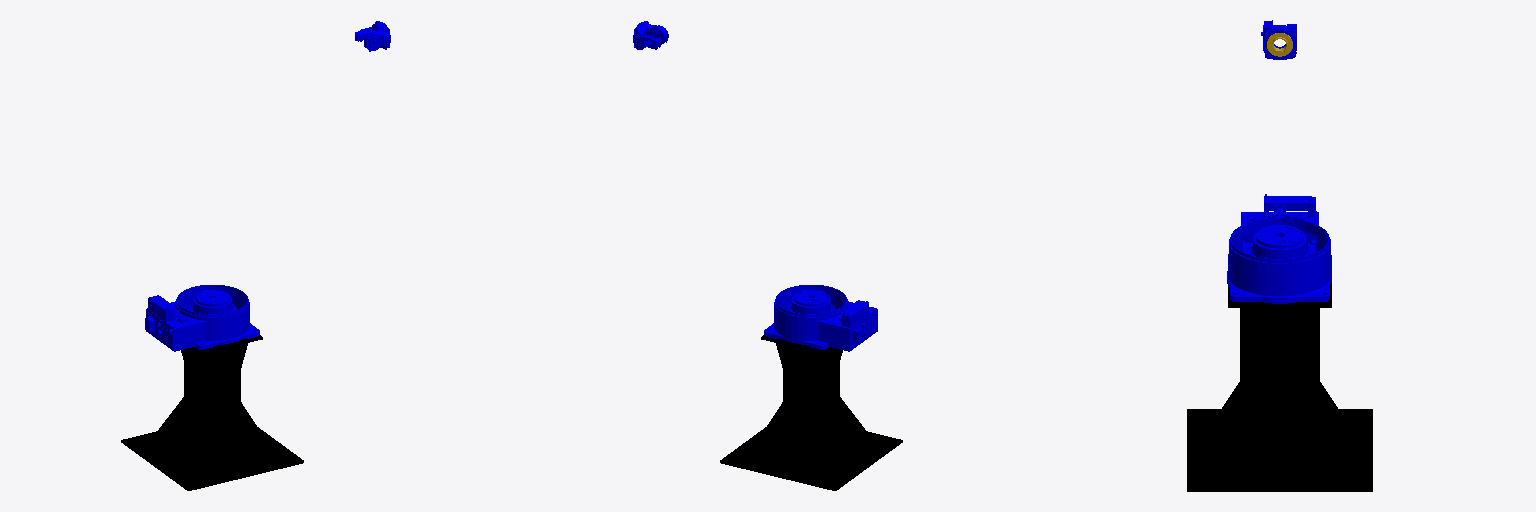
URDF robot description (yaskawa):
<?xml version="1.0" encoding="utf-8"?>
<!-- This URDF was automatically created by SolidWorks to URDF Exporter! Originally created by [author] ([email redacted]) 
     Commit Version: 1.5.1-0-g916b5db  Build Version: 1.5.7152.31018
     For more information, please see http://wiki.ros.org/sw_urdf_exporter -->
<robot name="yaskawa" xmlns:xacro="http://www.ros.org/wiki/xacro">

  <material name="black">
    <color rgba="0.0 0.0 0.0 1.0"/>
  </material>
  <material name="blue">
    <color rgba="0 0 1.0 1.0"/>
  </material>

  <link name="arm_base"/>

  <link name="gp25_fixed_base_link">
    <visual>
      <material name="black"/>
      <geometry>
        <mesh filename = "../mesh/gp25_base_700.obj" />
        <!-- alternatively, it could be a box or cylinder -->
        <!-- <cylinder length="0.15" radius="0.025"/> -->
      </geometry>
      <origin rpy="0 0 0" xyz="0 0 0"/>
    </visual>
  </link>

  <link name="f_link">
    <inertial>
      <origin
        xyz="-0.031915 0.0021754 0.091588"
        rpy="0 0 0" />
      <mass
        value="9.3324" />
      <inertia
        ixx="0.1098"
        ixy="0.0028375"
        ixz="0.0065426"
        iyy="0.14811"
        iyz="-0.0011608"
        izz="0.22448" />
    </inertial>
    <visual>
      <origin
        xyz="0 0 0"
        rpy="0 0 0" />
      <geometry>
        <mesh
          filename="../meshes/base_link.obj" />
      </geometry>
      <material name="blue"/>
    </visual>
  </link>
  
  <link name="s_Link">
    <inertial>
      <origin
        xyz="-0.038076 0.20667 0.061766"
        rpy="0 0 0" />
      <mass
        value="15.959" />
      <inertia
        ixx="0.25529"
        ixy="0.017445"
        ixz="0.0061699"
        iyy="0.24074"
        iyz="-0.052601"
        izz="0.21792" />
    </inertial>
    <visual>
      <origin
        xyz="0 0 0"
        rpy="0 0 0" />
      <geometry>
        <mesh
          filename="../meshes/s_Link.obj" />
      </geometry>
      <material name="blue"/>
    </visual>
  </link>





  <link name="l_Link">
    <inertial>
      <origin
        xyz="-0.00062167 0.39609 0.0888"
        rpy="0 0 0" />
      <mass
        value="5.7076" />
      <inertia
        ixx="0.34116"
        ixy="0.0021389"
        ixz="-0.00023475"
        iyy="0.019361"
        iyz="0.011447"
        izz="0.35339" />
    </inertial>
    <visual>
      <origin
        xyz="0 0 0"
        rpy="0 0 0" />
      <geometry>
        <mesh
          filename="../meshes/l_Link.obj" />
      </geometry>
      <material name="blue"/>
    </visual>
  </link>
 
  <link name="u_Link">
    <inertial>
      <origin
        xyz="-0.09664 -0.036888 0.093881"
        rpy="0 0 0" />
      <mass
        value="7.4543" />
      <inertia
        ixx="0.053003"
        ixy="0.00038685"
        ixz="0.028037"
        iyy="0.087936"
        iyz="-0.0013279"
        izz="0.058106" />
    </inertial>
    <visual>
      <origin
        xyz="0 0 0"
        rpy="0 0 0" />
      <geometry>
        <mesh
          filename="../meshes/u_Link.obj" />
      </geometry>
      <material name="blue"/>
    </visual>
  </link>

 
  <link name="r_Link">
    <inertial>
      <origin
        xyz="0.29012 -0.00040394 0.025862"
        rpy="0 0 0" />
      <mass  value="4.0138" />
      <inertia
        ixx="0.013092"
        ixy="-0.00031733"
        ixz="0.002754"
        iyy="0.078287"
        iyz="-0.00036811"
        izz="0.076871" />
    </inertial>
    <visual>
      <origin
        xyz="0 0 0"
        rpy="0 0 0" />
      <geometry>
        <mesh filename="../meshes/r_Link.obj" />
      </geometry>
      <material name="blue"/>
    </visual>
  </link>


  <link
    name="b_Link">
    <inertial>
      <origin
        xyz="0.0238 0.018199 0.00056212"
        rpy="0 0 0" />
      <mass
        value="2.4338" />
      <inertia
        ixx="0.0042554"
        ixy="-1.3463E-05"
        ixz="4.7464E-07"
        iyy="0.0041237"
        iyz="5.7202E-05"
        izz="0.0042659" />
    </inertial>
    <visual>
      <origin
        xyz="0 0 0"
        rpy="0 0 0" />
      <geometry>
        <mesh
          filename="../meshes/b_Link.obj" />
      </geometry>
      <material name="blue"/>
    </visual>
  </link>
 
  <link
    name="t_Link">
    <inertial>
      <origin
        xyz="0.012736 -3.8333E-05 -1.8968E-09"
        rpy="0 0 0" />
      <mass
        value="0.61827" />
      <inertia
        ixx="0.0010925"
        ixy="1.2818E-07"
        ixz="3.4704E-09"
        iyy="0.00056974"
        iyz="-6.0117E-06"
        izz="0.00056044" />
    </inertial>
    <visual>
      <origin
        xyz="0 0 0"
        rpy="0 0 0" />
      <geometry>
        <mesh
          filename="../meshes/t_Link.obj" />
      </geometry>
      <material
        name="">
        <color
          rgba="0.83137 0.67059 0.12941 1" />
      </material>
    </visual>
  </link>


  <joint name="mh25_fixed_base_link_joint" type="fixed">
    <origin xyz="0 0 0" rpy="0 0 0"/>
    <parent link="arm_base"/>
    <child link="gp25_fixed_base_link"/>
  </joint>
  <joint name="f_joint" type="fixed">
    <origin xyz="0.0 0.0 0.71" rpy="-1.5708 0 0"/> <!-- FIX THIS: the height of the base is wrong-->
    <parent link="gp25_fixed_base_link"/>
    <child link="f_link"/>
  </joint>

  <joint name="s" type="revolute">
    <origin
      xyz="0 -0.15075 0"
      rpy="3.1416 -1.5708 0" />
    <parent
      link="f_link" />
    <child
      link="s_Link" />
    <axis
      xyz="0 1 0" />
  </joint>
  
  <joint name="l" type="revolute">
    <origin
      xyz="-0.062998 0.35425 0.15"
      rpy="0 -1.5708 0" />
    <parent
      link="s_Link" />
    <child
      link="l_Link" />
    <axis
      xyz="0 0 1" />
  </joint>

 <joint name="u" type="revolute">
    <origin
      xyz="0 0.76 0"
      rpy="1.5708 0 -3.1416" />
    <parent
      link="l_Link" />
    <child
      link="u_Link" />
    <axis
      xyz="0 1 0" />
  </joint>

  <joint name="r"
    type="revolute">
    <origin
      xyz="-0.22499 -0.062998 0.2"
      rpy="0 0 3.1416" />
    <parent
      link="u_Link" />
    <child
      link="r_Link" />
    <axis
      xyz="1 0 0" />
  </joint>

 <joint name="b"
    type="revolute">
    <origin
      xyz="0.57001 0 0"
      rpy="3.1416 0 0" />
    <parent
      link="r_Link" />
    <child
      link="b_Link" />
    <axis
      xyz="0 1 0" />
  </joint>

  <joint name="t"
    type="revolute">
    <origin
      xyz="0.074491 0 0"
      rpy="-1.5708 0 0" />
    <parent
      link="b_Link" />
    <child
      link="t_Link" />
    <axis
      xyz="1 0 0" />
  </joint>


  <gazebo>
    <plugin filename="libgazebo_ros_control.so" name="gazebo_ros_controller">
      <robotNamespace>/yaskawa</robotNamespace>
    </plugin>
  </gazebo>
  <!-- Link0 -->
  <gazebo reference="arm_base">
    <material>Gazebo/Grey</material>
    <mu1>0.2</mu1>
    <mu2>0.2</mu2>
  </gazebo>
  <!-- Link0 -->
  <gazebo reference="f_Link">
    <material>Gazebo/Grey</material>
    <mu1>0.2</mu1>
    <mu2>0.2</mu2>
  </gazebo>  
  <!-- Link0 -->
  <gazebo reference="s_Link">
    <material>Gazebo/Grey</material>
    <mu1>0.2</mu1>
    <mu2>0.2</mu2>
  </gazebo>  
  <!-- Link0 -->
  <gazebo reference="l_Link">
    <material>Gazebo/Grey</material>
    <mu1>0.2</mu1>
    <mu2>0.2</mu2>
  </gazebo>  
  <!-- Link0 -->
  <gazebo reference="u_Link">
    <material>Gazebo/Grey</material>
    <mu1>0.2</mu1>
    <mu2>0.2</mu2>
  </gazebo>  
  <!-- Link0 -->
  <gazebo reference="r_Link">
    <material>Gazebo/Grey</material>
    <mu1>0.2</mu1>
    <mu2>0.2</mu2>
  </gazebo>
   <!-- Link0 -->
  <gazebo reference="b_Link">
    <material>Gazebo/Grey</material>
    <mu1>0.2</mu1>
    <mu2>0.2</mu2>
  </gazebo>
   <!-- Link0 -->
  <gazebo reference="t_Link">
    <material>Gazebo/Grey</material>
    <mu1>0.2</mu1>
    <mu2>0.2</mu2>
  </gazebo>
   <!-- Link0 -->
  <!-- <gazebo reference="ee_mount">
    <material>Gazebo/Grey</material>
    <mu1>0.2</mu1>
    <mu2>0.2</mu2>
  </gazebo> -->


  <transmission name="yaskawa_tran_1">
    <robotNamespace>/yaskawa</robotNamespace>
    <type>transmission_interface/SimpleTransmission</type>
    <joint name="s">
      <hardwareInterface>PositionJointInterface</hardwareInterface>
    </joint>
    <actuator name="yaskawa_motor_1">
      <hardwareInterface>PositionJointInterface</hardwareInterface>
      <mechanicalReduction>1</mechanicalReduction>
    </actuator>
  </transmission>

  <transmission name="yaskawa_tran_2">
    <robotNamespace>/yaskawa</robotNamespace>
    <type>transmission_interface/SimpleTransmission</type>
    <joint name="l">
      <hardwareInterface>PositionJointInterface</hardwareInterface>
    </joint>
    <actuator name="yaskawa_motor_2">
      <hardwareInterface>PositionJointInterface</hardwareInterface>
      <mechanicalReduction>1</mechanicalReduction>
    </actuator>
  </transmission>

  <transmission name="yaskawa_tran_3">
    <robotNamespace>/yaskawa</robotNamespace>
    <type>transmission_interface/SimpleTransmission</type>
    <joint name="u">
      <hardwareInterface>PositionJointInterface</hardwareInterface>
    </joint>
    <actuator name="yaskawa_motor_3">
      <hardwareInterface>PositionJointInterface</hardwareInterface>
      <mechanicalReduction>1</mechanicalReduction>
    </actuator>
  </transmission>

  <transmission name="yaskawa_tran_4">
    <robotNamespace>/yaskawa</robotNamespace>
    <type>transmission_interface/SimpleTransmission</type>
    <joint name="r">
      <hardwareInterface>PositionJointInterface</hardwareInterface>
    </joint>
    <actuator name="yaskawa_motor_4">
      <hardwareInterface>PositionJointInterface</hardwareInterface>
      <mechanicalReduction>1</mechanicalReduction>
    </actuator>
  </transmission>

  <transmission name="yaskawa_tran_5">
    <robotNamespace>/yaskawa</robotNamespace>
    <type>transmission_interface/SimpleTransmission</type>
    <joint name="b">
      <hardwareInterface>PositionJointInterface</hardwareInterface>
    </joint>
    <actuator name="yaskawa_motor_5">
      <hardwareInterface>PositionJointInterface</hardwareInterface>
      <mechanicalReduction>1</mechanicalReduction>
    </actuator>
  </transmission>

  <transmission name="yaskawa_tran_6">
    <robotNamespace>/yaskawa</robotNamespace>
    <type>transmission_interface/SimpleTransmission</type>
    <joint name="t">
      <hardwareInterface>PositionJointInterface</hardwareInterface>
    </joint>
    <actuator name="yaskawa_motor_6">
      <hardwareInterface>PositionJointInterface</hardwareInterface>
      <mechanicalReduction>1</mechanicalReduction>
    </actuator>
  </transmission>





</robot>

--- Render facts (derived) ---
Views: 3 orthographic renders of the robot side by side, from view 1: azimuth 30°, elevation 25°; view 2: azimuth 150°, elevation 25°; view 3: azimuth 270°, elevation 25°.
Robot: yaskawa — 9 links, 8 joints (6 revolute, 2 fixed); root link arm_base; default pose: every joint at zero.
Links seen in each view (by area): view 1: gp25_fixed_base_link, f_link, b_Link; view 2: gp25_fixed_base_link, f_link, b_Link; view 3: gp25_fixed_base_link, f_link, b_Link.
Boxes of the visible links, bbox=[...] form: gp25_fixed_base_link: bbox=[121, 335, 303, 490]; f_link: bbox=[145, 285, 259, 351]; b_Link: bbox=[355, 21, 390, 51]; gp25_fixed_base_link: bbox=[720, 335, 902, 490]; f_link: bbox=[764, 285, 877, 351]; b_Link: bbox=[633, 21, 668, 49]; gp25_fixed_base_link: bbox=[1187, 283, 1372, 491]; f_link: bbox=[1227, 194, 1331, 303]; b_Link: bbox=[1261, 20, 1296, 59].
Size in the robot's own frame: 1.4 by 0.7 by 2.24 metres.
4 mesh visuals loaded from 8 distinct referenced files (4 OBJ); not drawn: 4 (reference not matched to a file when rendering).
